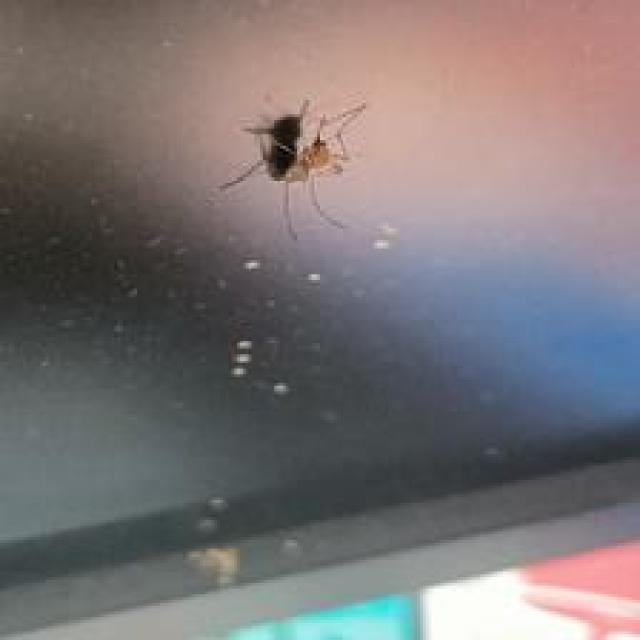Culex: (217, 93, 369, 241)
